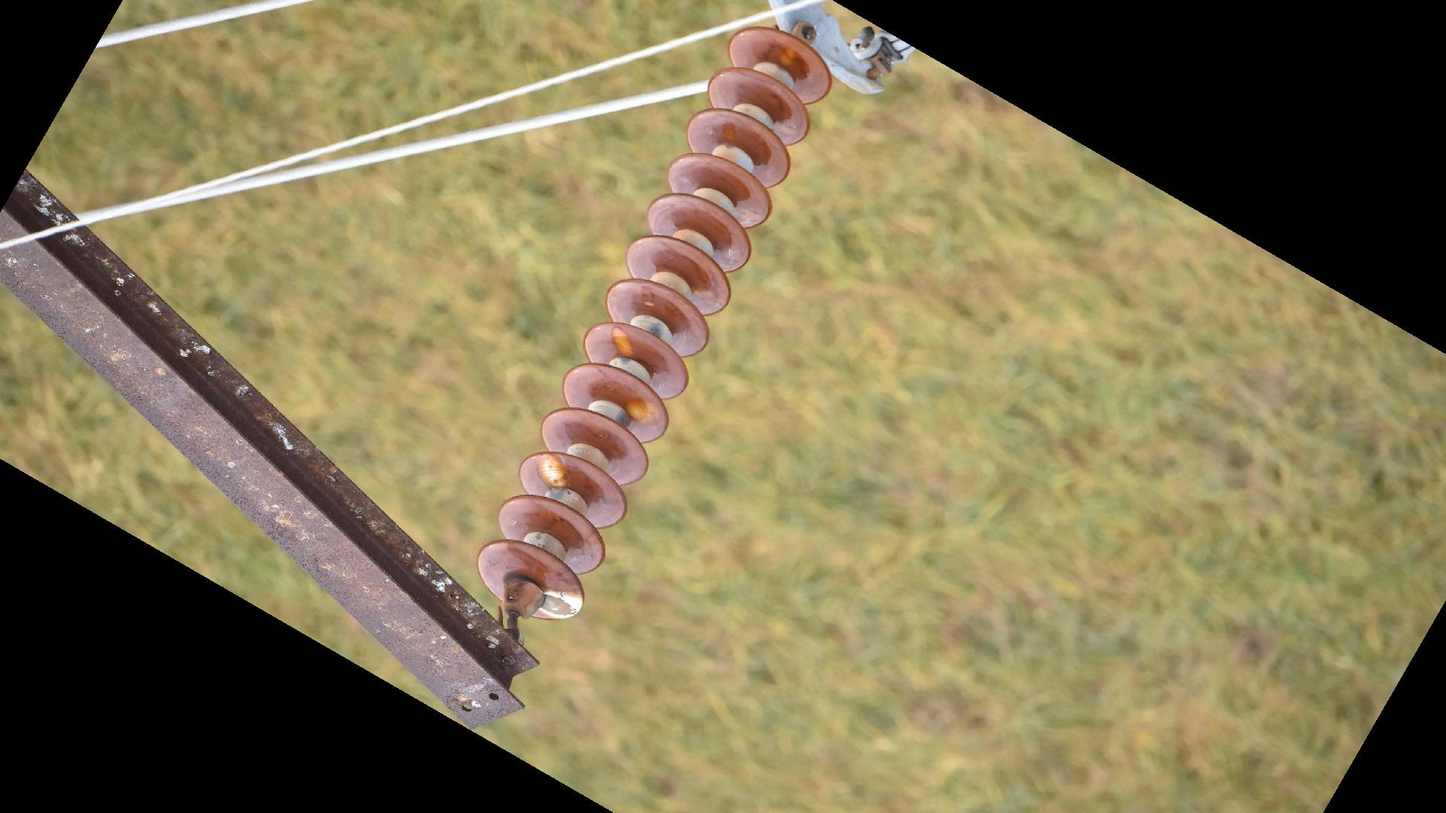insulator: (474, 23, 835, 626)
insulator_flashover: (538, 586, 585, 622), (535, 452, 569, 489), (623, 397, 665, 426), (610, 325, 636, 361)
